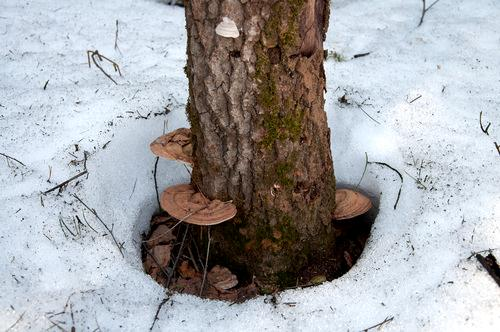Ganoderma - Fruit Body: (160, 184, 236, 226), (150, 126, 195, 168), (334, 187, 372, 221)
